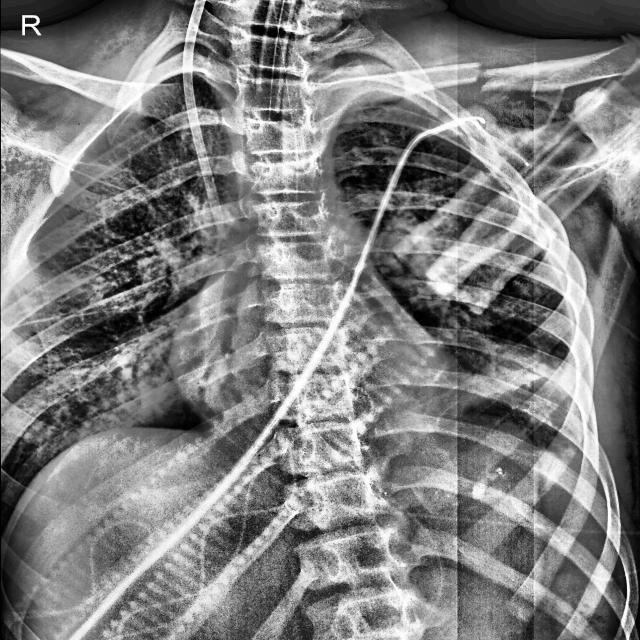Fracture: (420, 54, 532, 100)
